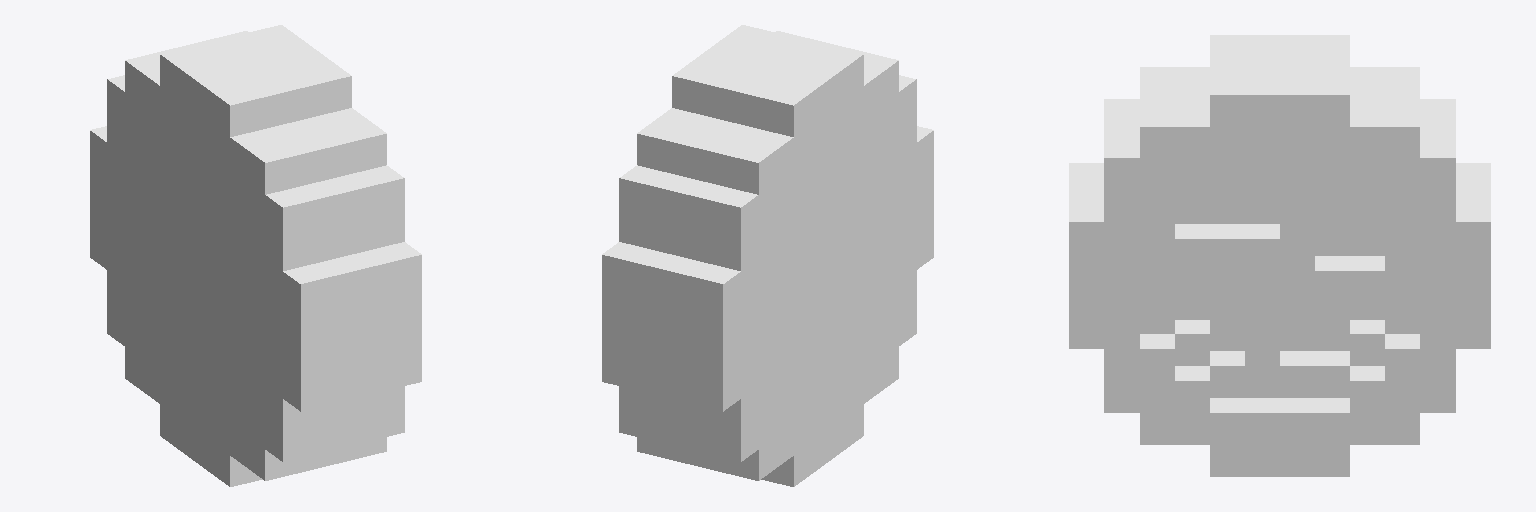
Rendered from Bentley-3.obj.
3 renders of one model, left to right at view 1: azimuth 30°, elevation 25°; view 2: azimuth 150°, elevation 25°; view 3: azimuth 270°, elevation 25°, orthographic.
Parts seen in each view (by area): view 1: object 1; view 2: object 1; view 3: object 1.
Boxes of the visible parts, x1,y1,x2,y2 form: object 1: [90, 25, 421, 486]; object 1: [602, 25, 933, 486]; object 1: [1069, 35, 1490, 476].
Bounding box in the file's own units: 4 × 12 × 12.